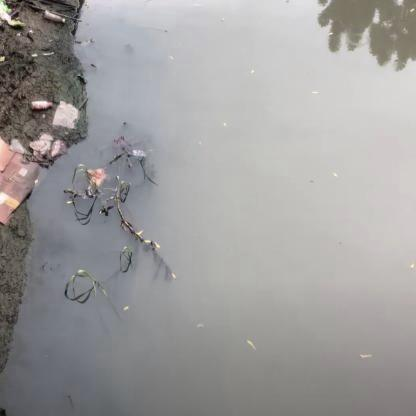Glass: (27, 97, 56, 114)
